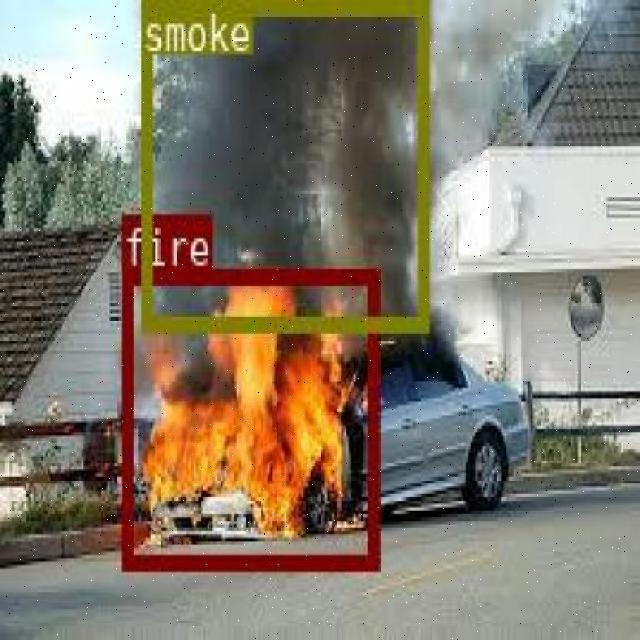Smoke: (138, 0, 426, 262)
